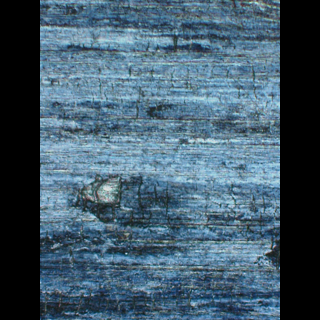d: (66, 171, 134, 228)
